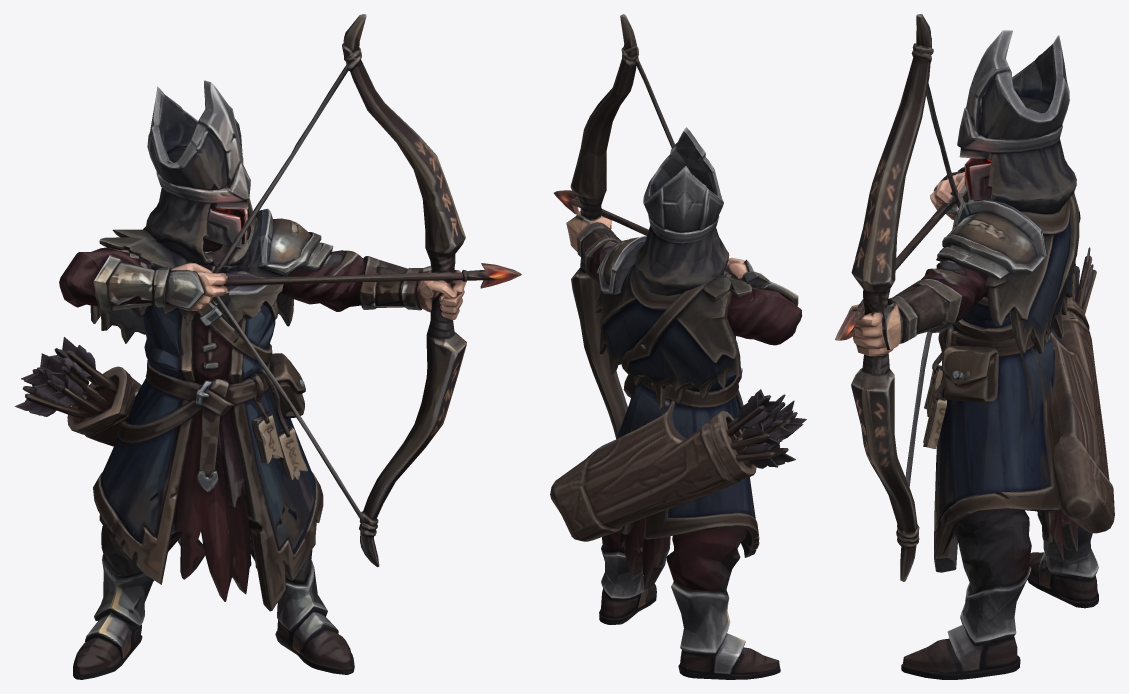
File: blackfeather_bishop_archer.glb
3 views of the same model, side by side, from view 1: azimuth 30°, elevation 25°; view 2: azimuth 150°, elevation 25°; view 3: azimuth 270°, elevation 25° (orthographic). The views are drawn at different scales.
Visible parts, largest first — view 1: Mesh_0; view 2: Mesh_0; view 3: Mesh_0.
Part boxes in pixels (x1=…): Mesh_0: x1=14, y1=14, x2=521, y2=679; Mesh_0: x1=550, y1=14, x2=806, y2=679; Mesh_0: x1=835, y1=14, x2=1114, y2=679.
Bounding box in the file's own units: 1.2 × 1.9 × 0.7228.
Materials: 1 (1 with a texture image).
